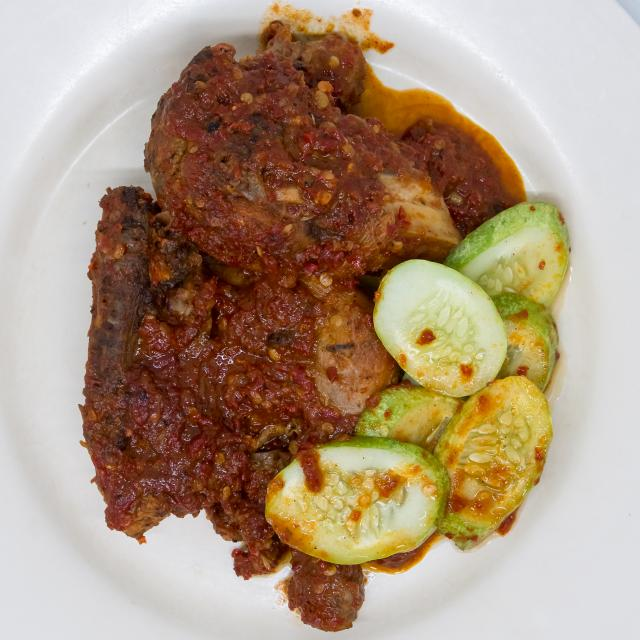Ayam-Bumbu-Rujak: (51, 23, 591, 632)
